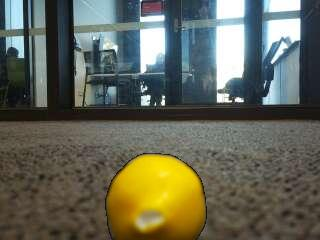lemon: (108, 153, 206, 239)
